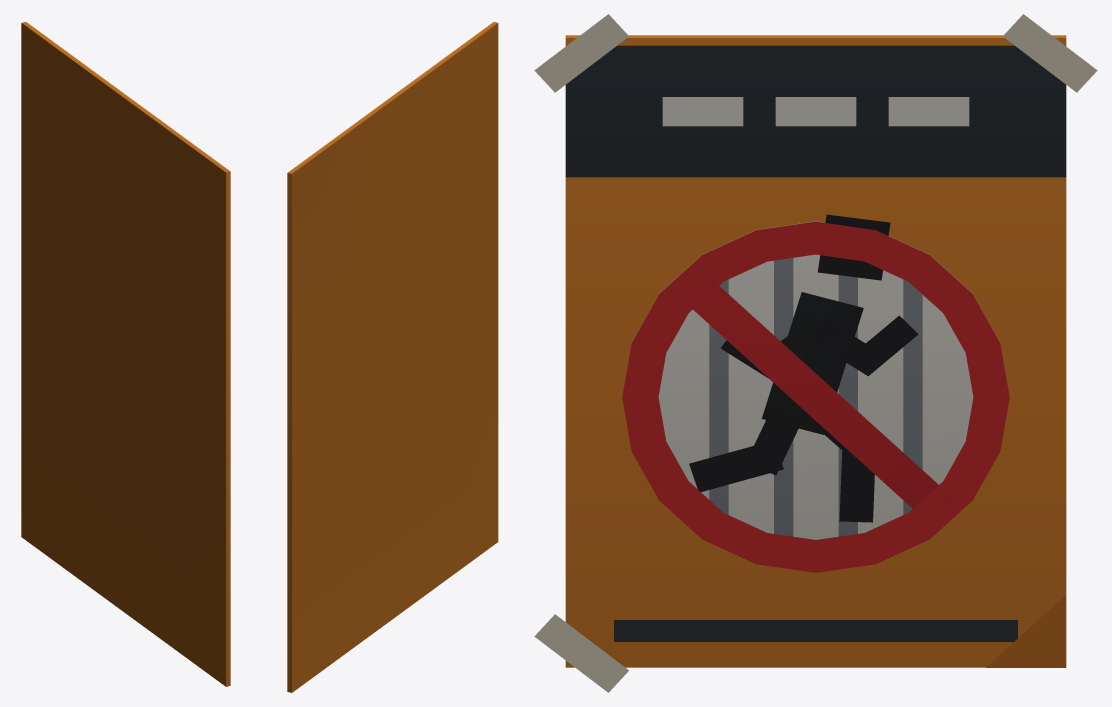
File: poster_wall.glb
3 views of the same model, side by side, from view 1: azimuth 30°, elevation 25°; view 2: azimuth 150°, elevation 25°; view 3: azimuth 270°, elevation 25° (orthographic). The views are drawn at different scales.
Parts seen in each view (by area): view 1: Body; view 2: Body; view 3: Body.
Part boxes in pixels (bbox=[...]): Body: bbox=[21, 22, 230, 686]; Body: bbox=[287, 22, 498, 692]; Body: bbox=[534, 14, 1097, 692].
Size of the model in its own units: 0.01 by 0.9278 by 0.6976.
